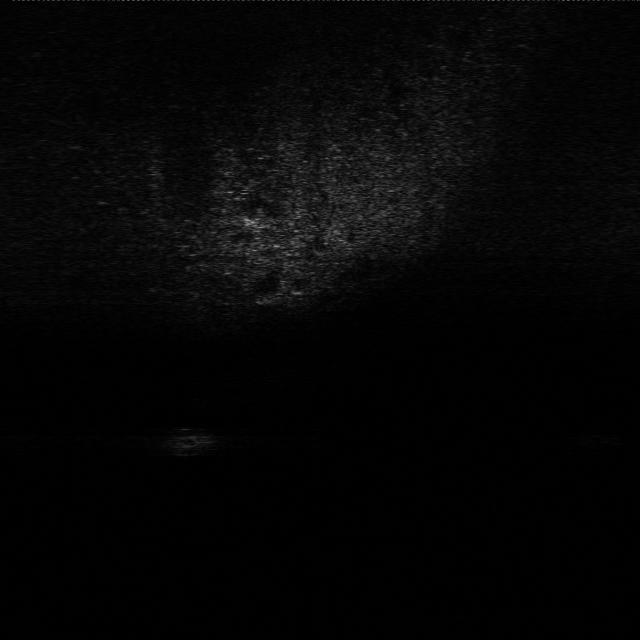circle cage: (148, 419, 222, 460)
